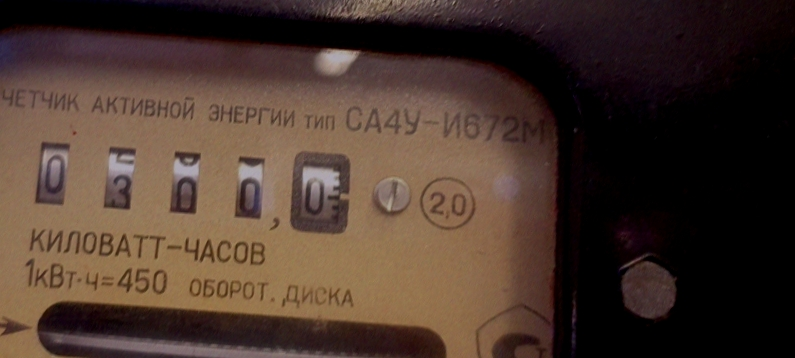0: (42, 150, 68, 198), (237, 174, 264, 220), (301, 175, 328, 218), (173, 174, 199, 216)
3: (109, 171, 134, 211)
screen: (14, 118, 373, 252)
